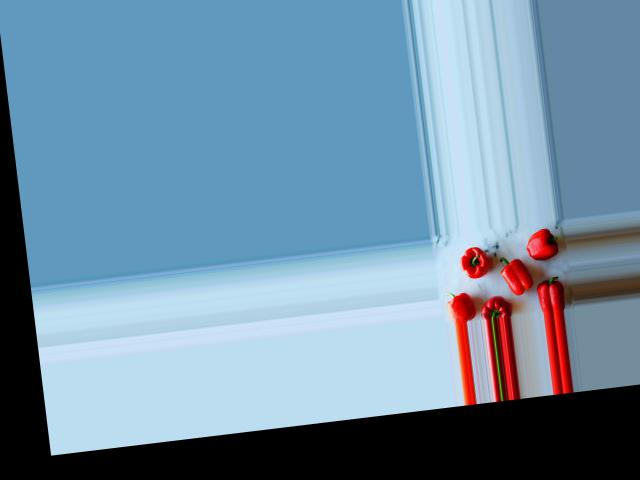bell_pepper: (480, 293, 513, 319)
